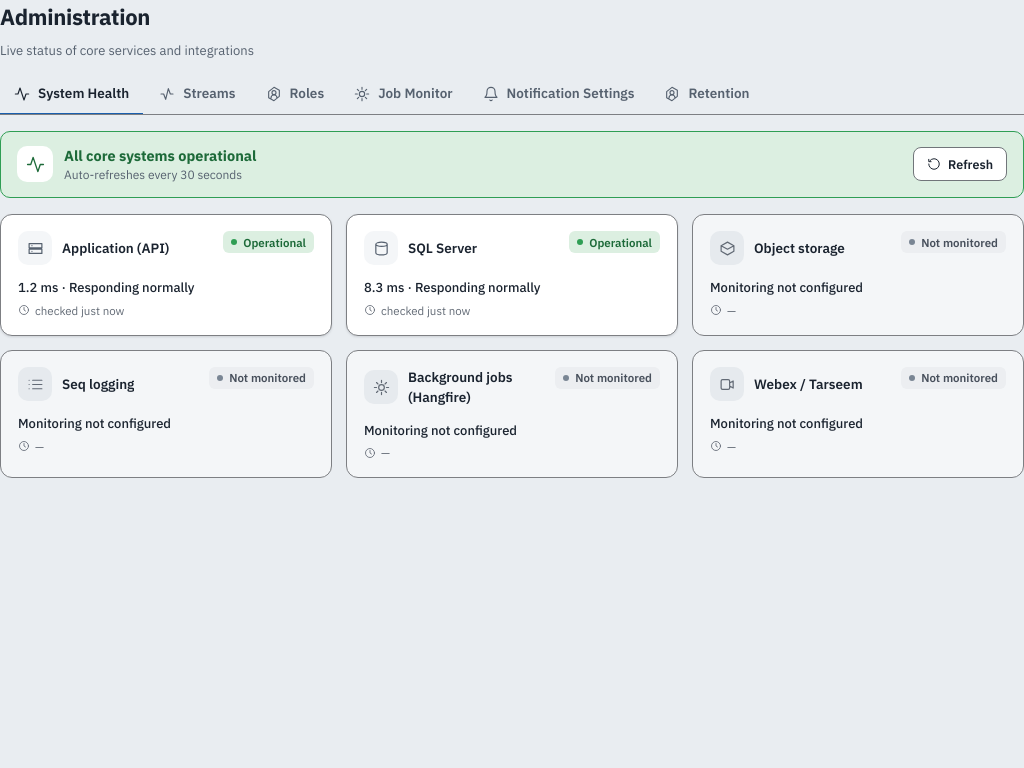
Test: AdministrationPage — sub-tab container › switches to Notification Settings and renders channels + a read-only matrix
Click the tab "Notification Settings".
click(559, 94)  # box [469,74,648,114]
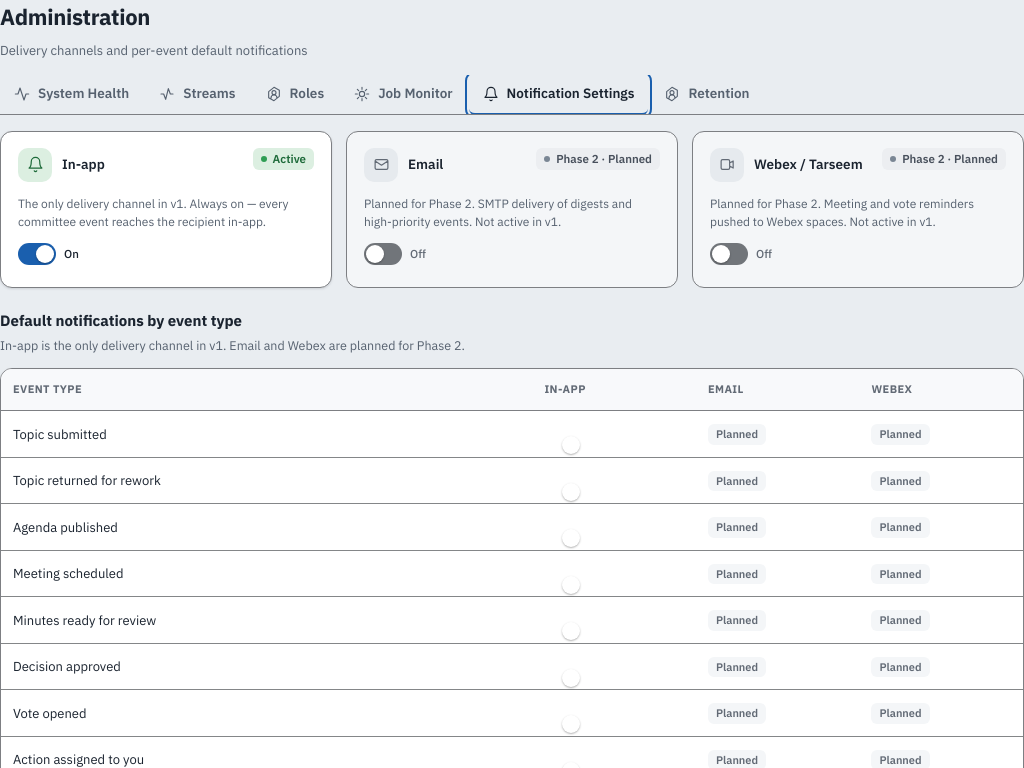
Expected: the heading "Default notifications by event type" is shown, [0,310,242,330]
Expected: the text "Topic submitted" is shown, [13,426,107,443]
Expected: the 1st text "Planned" is shown, [708,424,766,445]
